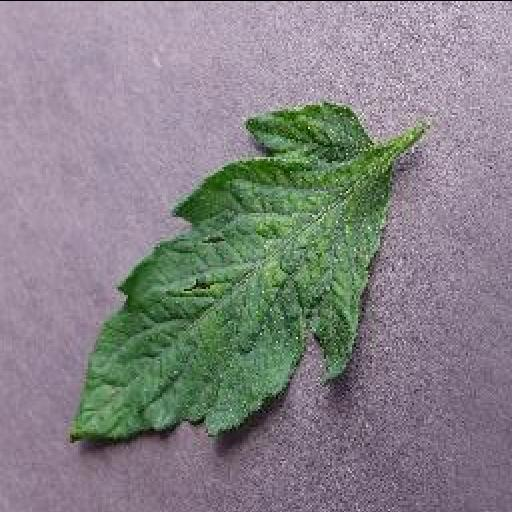disease_tomato: (67, 98, 393, 444)
